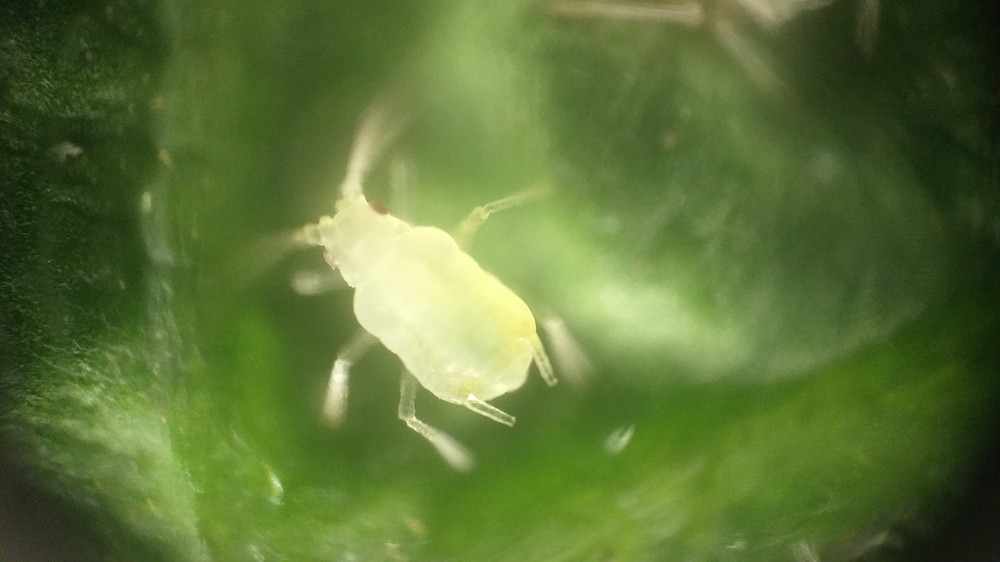Pulgon: (222, 89, 646, 496)
